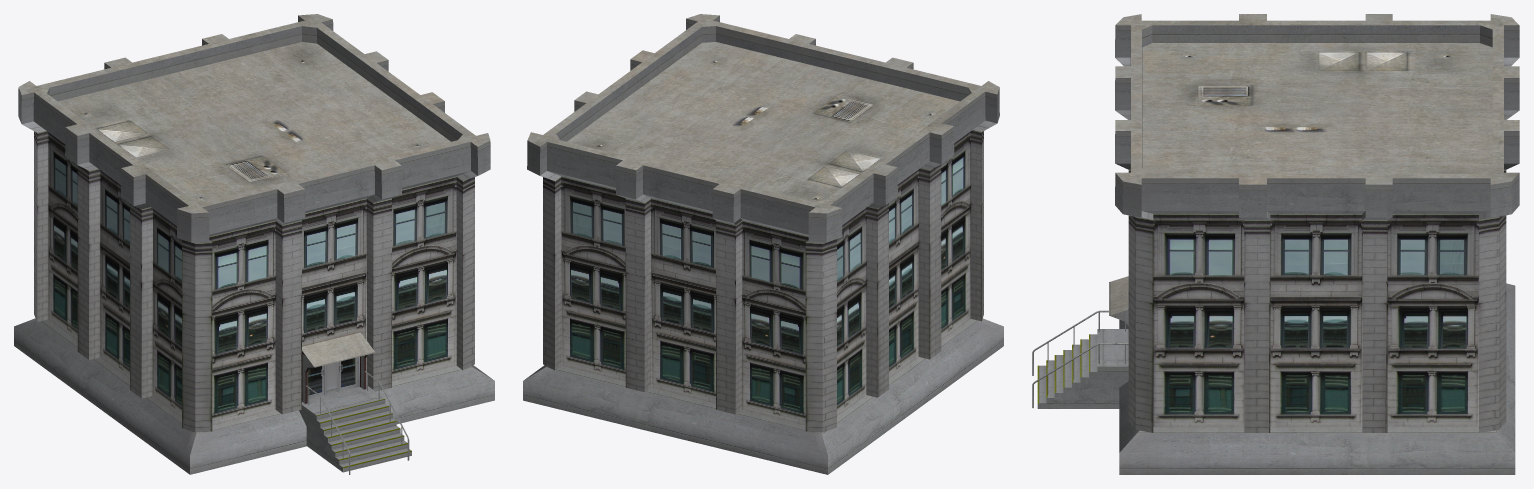
File: building_005_v0.fbx
3 views of the same model, side by side, from view 1: azimuth 30°, elevation 25°; view 2: azimuth 150°, elevation 25°; view 3: azimuth 270°, elevation 25° (orthographic). The views are drawn at different scales.
Parts seen in each view (by area): view 1: building_5, stairs, stairs1; view 2: building_5; view 3: building_5, stairs, stairs1.
Boxes of the visible parts, box(x1,y1,x2,y2) form: building_5: box(14, 14, 494, 474); stairs: box(299, 385, 411, 472); stairs1: box(302, 332, 375, 403); building_5: box(523, 14, 1003, 474); building_5: box(1115, 14, 1519, 474); stairs: box(1037, 329, 1128, 408); stairs1: box(1109, 276, 1128, 325).
Size of the model in its own units: 17.12 by 13.69 by 20.62.
